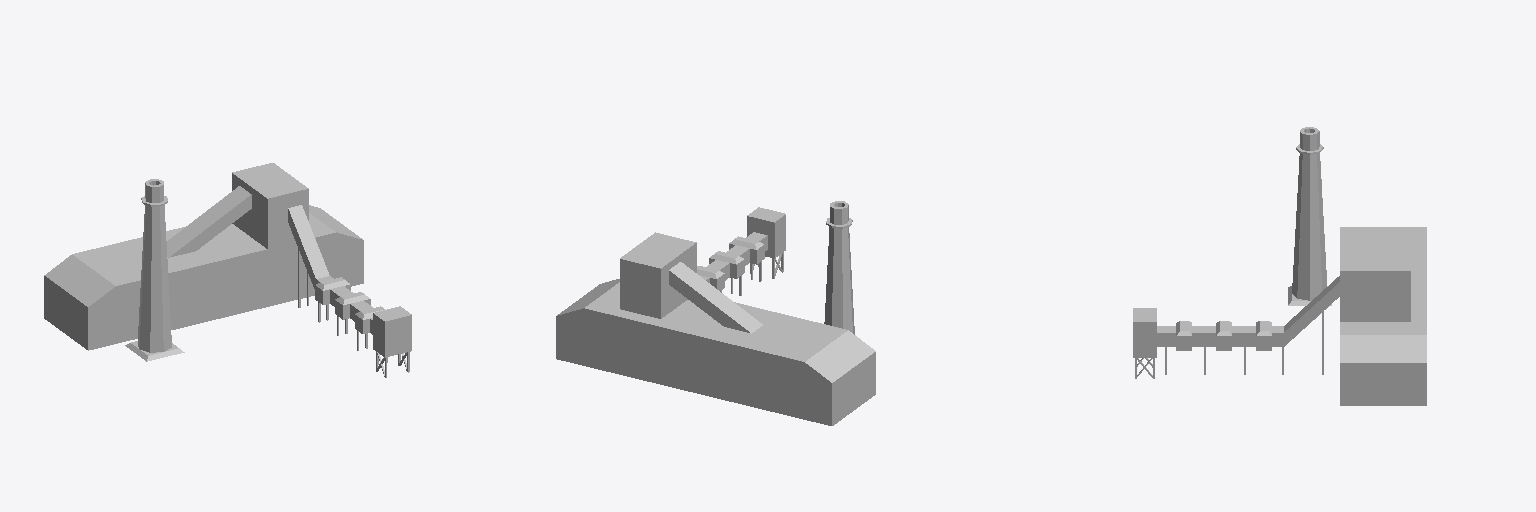
File: coal_loader.obj
3 views of the same model, side by side, from view 1: azimuth 30°, elevation 25°; view 2: azimuth 150°, elevation 25°; view 3: azimuth 270°, elevation 25° (orthographic).
Size of the model in its own units: 100 by 57.5 by 92.5.